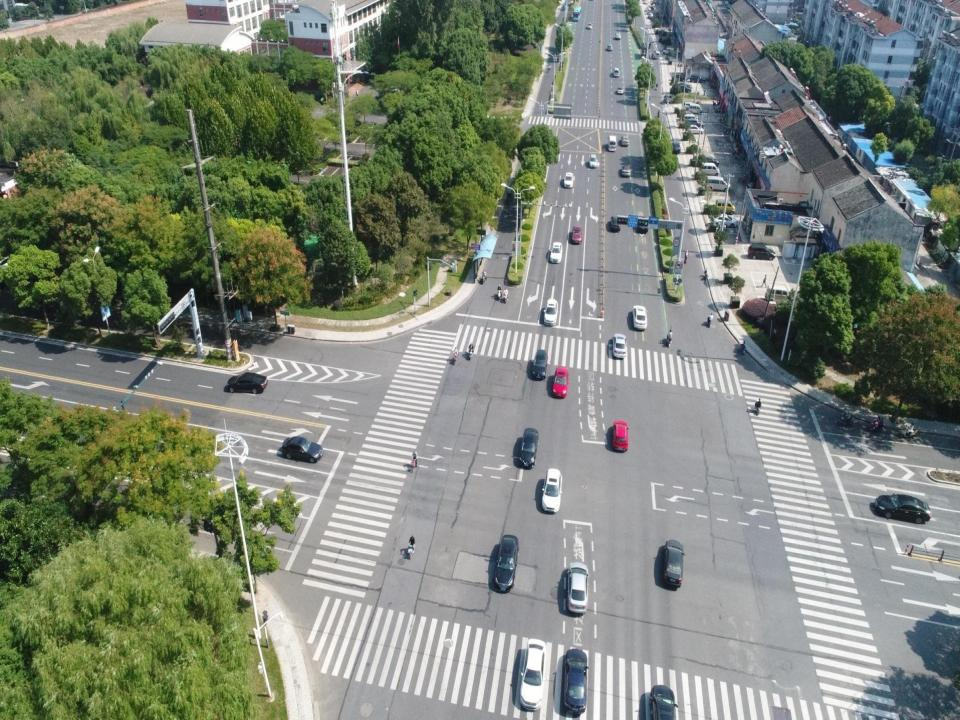bus: (570, 5, 582, 22)
car: (874, 493, 933, 527), (518, 636, 543, 710), (564, 644, 588, 714), (493, 532, 519, 594), (566, 560, 589, 614), (662, 538, 685, 588), (540, 466, 562, 514), (649, 684, 678, 720), (280, 438, 323, 462), (225, 372, 268, 393), (518, 427, 539, 467), (552, 362, 569, 398), (612, 419, 630, 452), (530, 347, 546, 380), (541, 298, 558, 326), (632, 304, 648, 331), (612, 334, 628, 360), (550, 242, 562, 263), (571, 226, 583, 243), (564, 170, 574, 187), (620, 162, 630, 178), (686, 125, 703, 134), (589, 154, 598, 168), (620, 134, 629, 146), (614, 29, 620, 39), (666, 93, 672, 103), (586, 21, 591, 30), (609, 43, 612, 51)
van: (704, 175, 730, 192), (716, 196, 735, 214), (700, 161, 719, 175), (697, 155, 719, 166), (608, 133, 617, 152), (675, 82, 692, 92), (688, 102, 703, 113), (690, 74, 705, 82), (683, 113, 697, 121), (672, 140, 680, 154), (682, 102, 694, 110), (616, 85, 624, 95), (613, 66, 620, 76), (663, 48, 674, 54), (654, 49, 660, 59)
